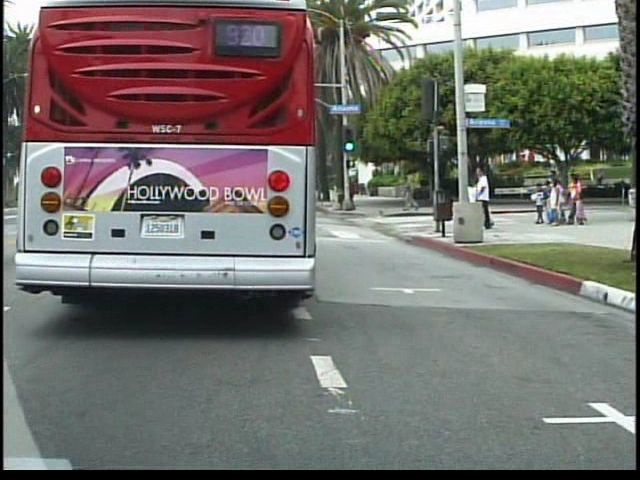person: (470, 162, 499, 232), (462, 172, 484, 226), (402, 172, 421, 213)
